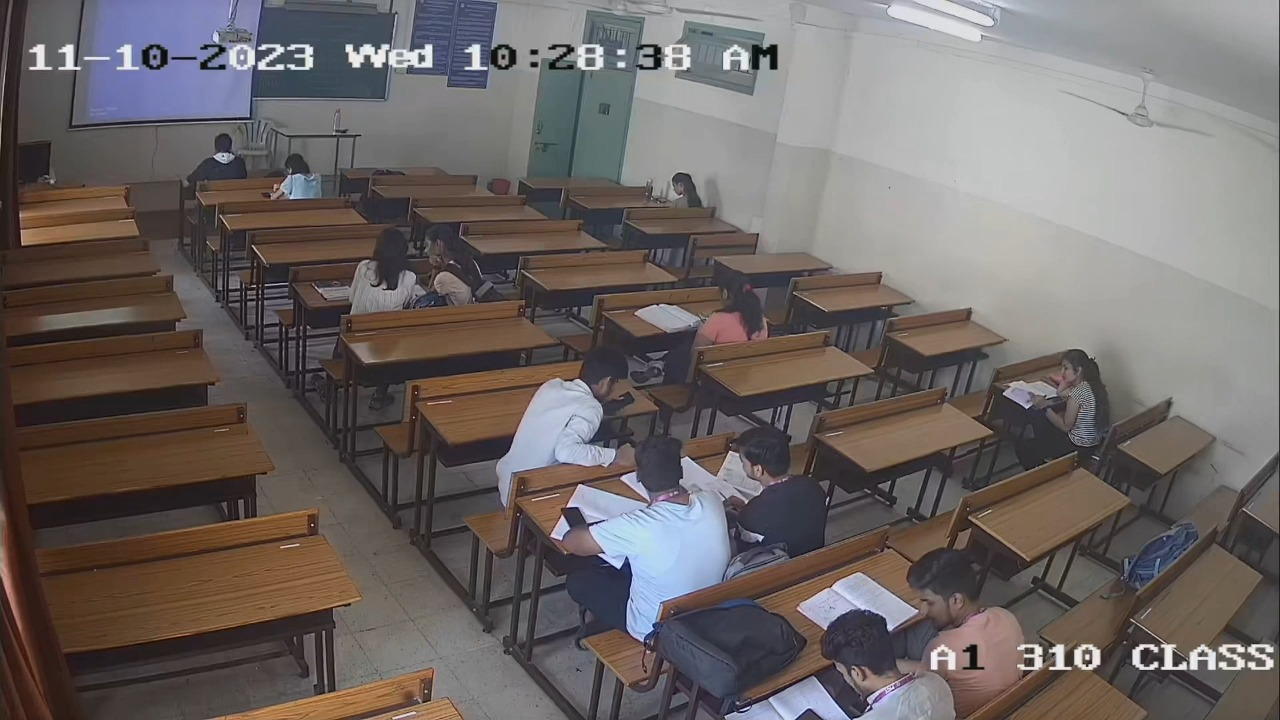cell-phones: (599, 389, 638, 417), (559, 506, 591, 532), (790, 704, 830, 720), (653, 194, 669, 204), (262, 189, 271, 199)
person: (583, 437, 730, 600), (816, 608, 957, 720), (523, 347, 642, 470), (269, 153, 323, 199), (669, 172, 703, 207)
